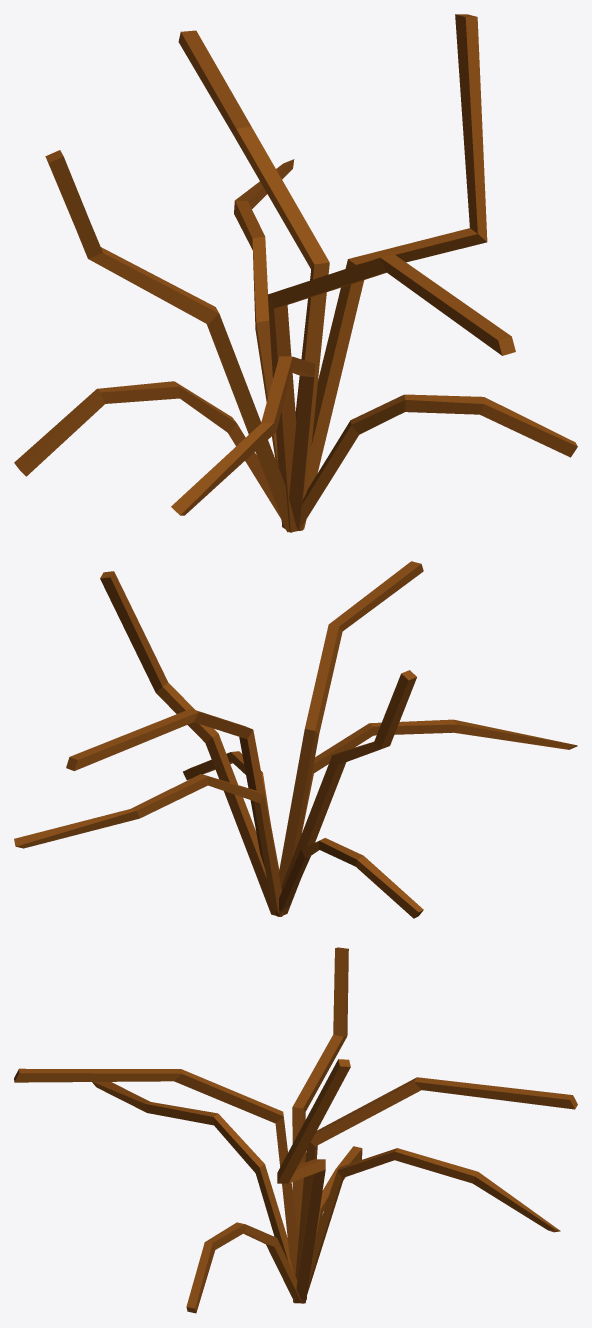
Rendered from Thorns_02.fbx.
3 views of the same model, one above another, from view 1: azimuth 30°, elevation 25°; view 2: azimuth 150°, elevation 25°; view 3: azimuth 270°, elevation 25° (orthographic). The views are drawn at different scales.
Parts seen in each view (by area): view 1: Thorns_02; view 2: Thorns_02; view 3: Thorns_02.
Part boxes in pixels (x1,y1,x2,y2): Thorns_02: (14, 14, 577, 532); Thorns_02: (14, 561, 577, 918); Thorns_02: (14, 947, 577, 1313).
Size of the model in its own units: 79.7 by 70.33 by 116.
